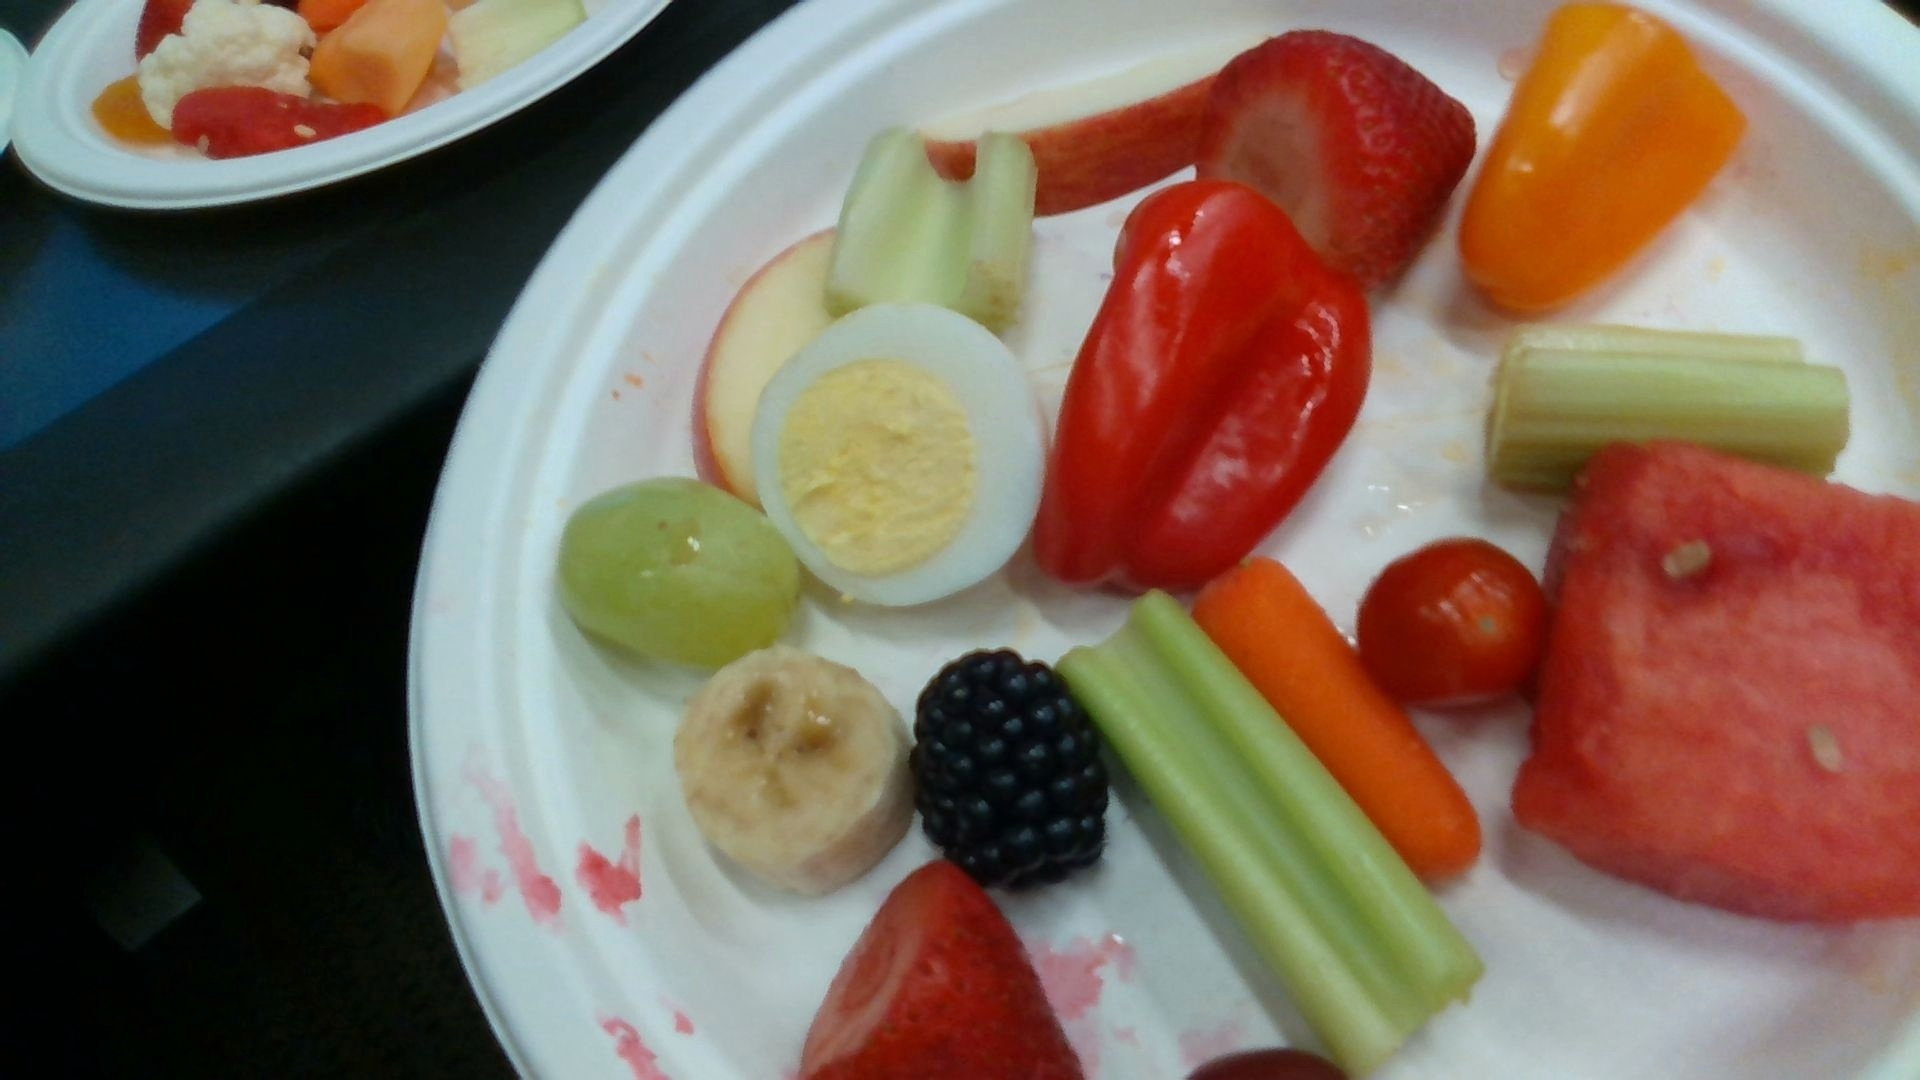apple: (915, 58, 1236, 215), (694, 228, 832, 502)
banana: (676, 647, 914, 890)
bell_pepper: (1040, 183, 1371, 595), (1461, 1, 1742, 316)
blackberry: (914, 655, 1106, 887)
carrot: (1195, 560, 1482, 884)
celery: (1055, 591, 1480, 1068), (1487, 320, 1847, 481), (827, 128, 1036, 335)
cherry_tomato: (1360, 538, 1544, 711)
egg: (752, 305, 1047, 601)
grape_green: (562, 481, 796, 665)
melon: (1515, 448, 1920, 923)
strawberry: (1200, 32, 1474, 286), (804, 868, 1083, 1080)
